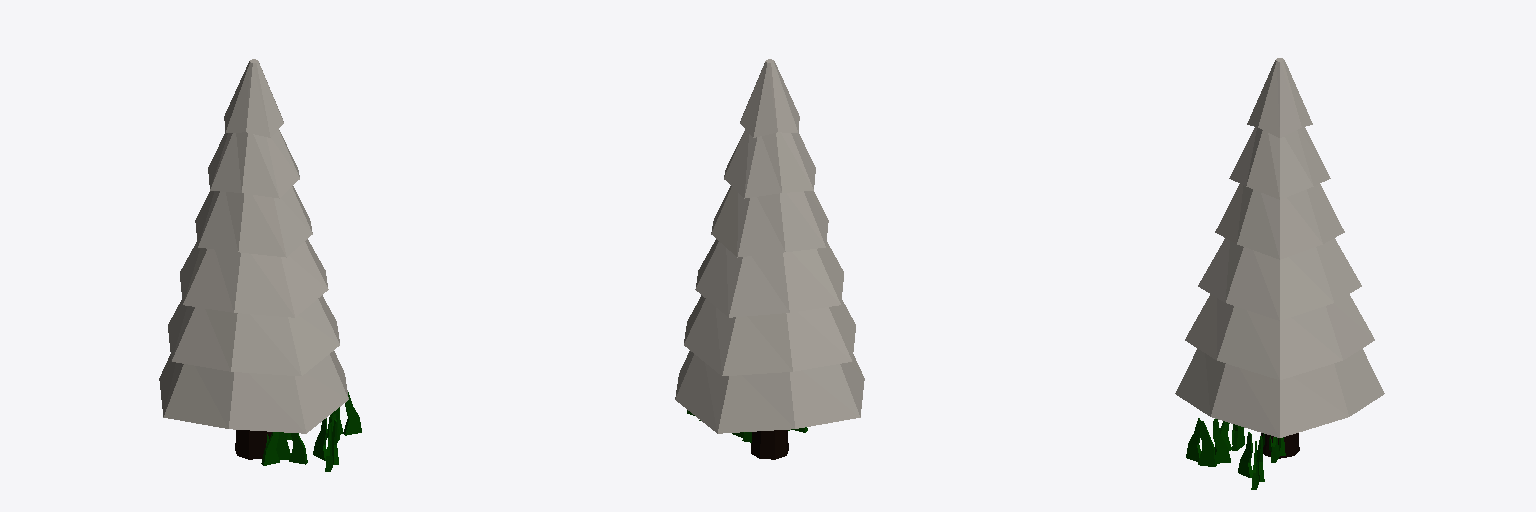
File: ForestU.obj
3 renders of one model, left to right at view 1: azimuth 30°, elevation 25°; view 2: azimuth 150°, elevation 25°; view 3: azimuth 270°, elevation 25°, orthographic.
Visible parts, largest first — view 1: Cylinder.008, Cube.039_Cube.041, Cube.037_Cube.039, Cube.038_Cube.040; view 2: Cylinder.008; view 3: Cylinder.008, Cube.037_Cube.039, Cube.038_Cube.040.
Boxes of the visible parts, box(x1,y1,x2,y2) form: Cylinder.008: box(159, 59, 348, 459); Cube.039_Cube.041: box(261, 432, 307, 465); Cube.037_Cube.039: box(313, 418, 338, 471); Cube.038_Cube.040: box(327, 392, 361, 442); Cylinder.008: box(675, 59, 864, 459); Cylinder.008: box(1175, 58, 1384, 458); Cube.037_Cube.039: box(1186, 418, 1230, 466); Cube.038_Cube.040: box(1238, 432, 1264, 489).
Bounding box in the file's own units: 1.38 × 2.77 × 1.35.